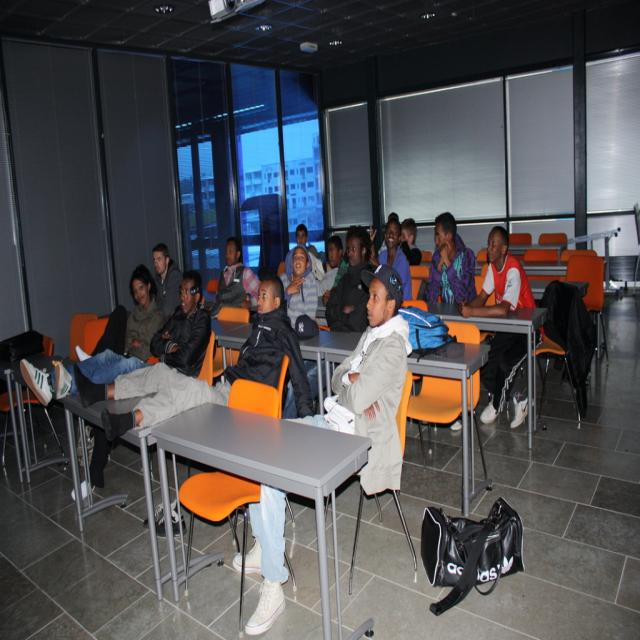chair: (347, 366, 418, 592), (532, 278, 594, 429), (565, 251, 608, 365), (538, 231, 568, 252)
desk: (150, 403, 372, 639)
person: (329, 264, 412, 501), (461, 225, 538, 426), (324, 226, 378, 332), (424, 210, 478, 312), (377, 214, 412, 300), (282, 245, 318, 315), (151, 240, 183, 318)
